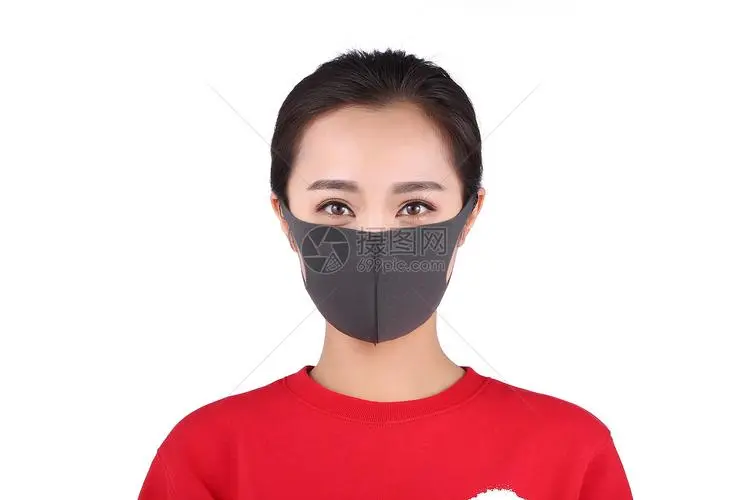withmask: (249, 37, 504, 354)
